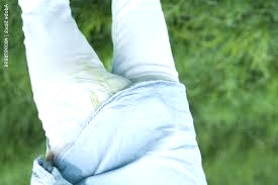earth: (90, 70, 110, 86), (91, 93, 96, 111)
